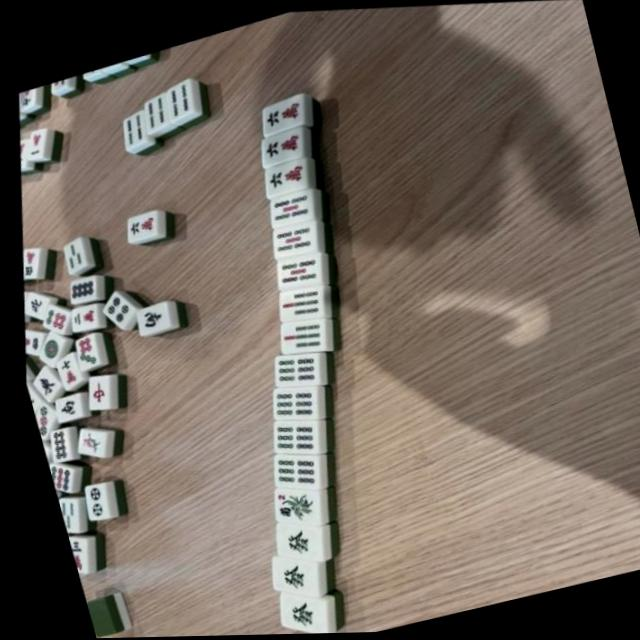hdg: (271, 587, 320, 633), (270, 515, 314, 559), (264, 551, 309, 592)
sb5: (267, 240, 323, 291), (263, 180, 315, 225), (267, 212, 316, 256)
sb6: (261, 407, 317, 456), (265, 341, 319, 389), (263, 374, 317, 421), (264, 443, 316, 489)
sb7: (272, 305, 328, 356), (269, 274, 324, 321)
sc6: (255, 85, 308, 133), (256, 148, 310, 195), (255, 120, 305, 162)
